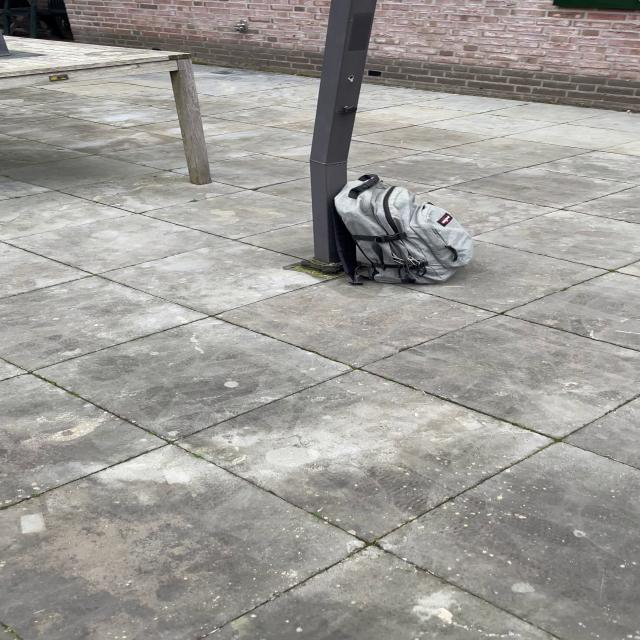backpack: (317, 172, 481, 288)
